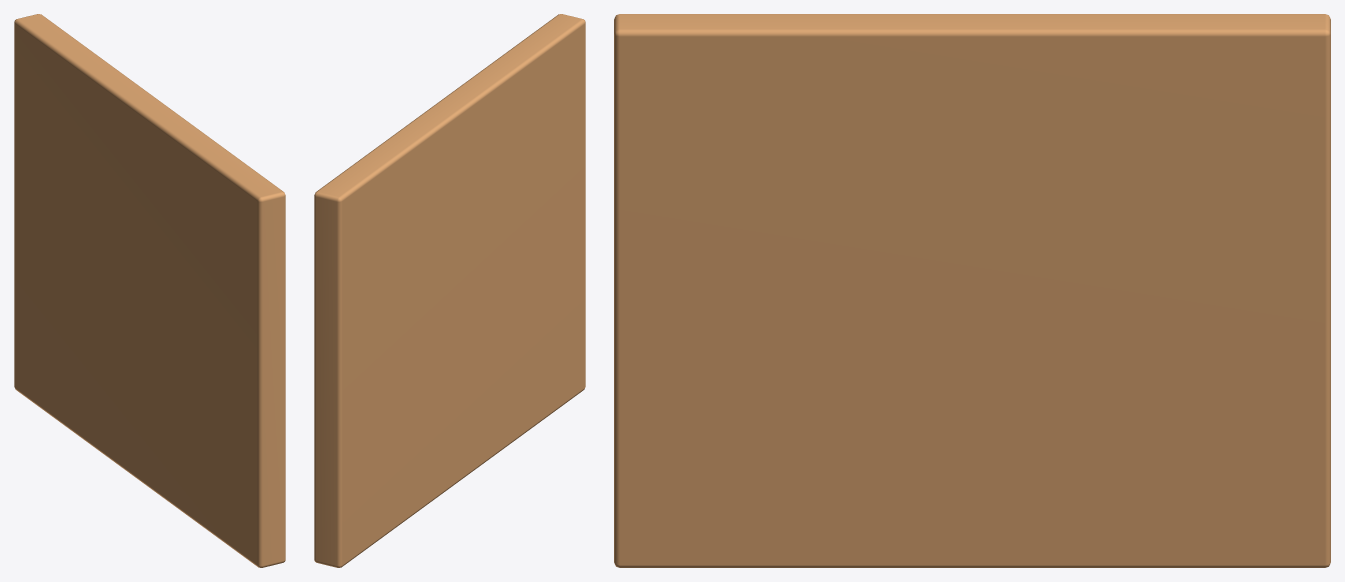
Rendered from SM_wall.glb.
3 renders of one model, left to right at view 1: azimuth 30°, elevation 25°; view 2: azimuth 150°, elevation 25°; view 3: azimuth 270°, elevation 25°, orthographic. The views are drawn at different scales.
Parts seen in each view (by area): view 1: SM_wall; view 2: SM_wall; view 3: SM_wall.
Boxes of the visible parts, x1,y1,x2,y2 form: SM_wall: (14,14,285,567); SM_wall: (314,14,585,567); SM_wall: (614,14,1330,567).
Size of the model in its own units: 0.3195 by 4.06 by 4.89.
Materials: 1 (1 with a texture image).
